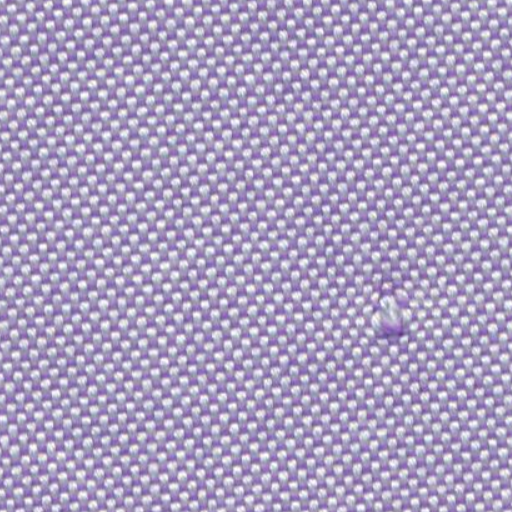MianQiu: (344, 278, 430, 354)
